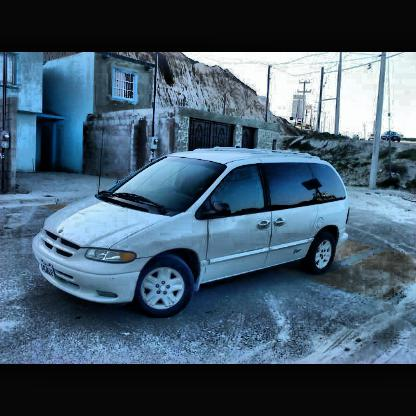Dodge Caravan Minivan 1997: (30, 145, 352, 314)
